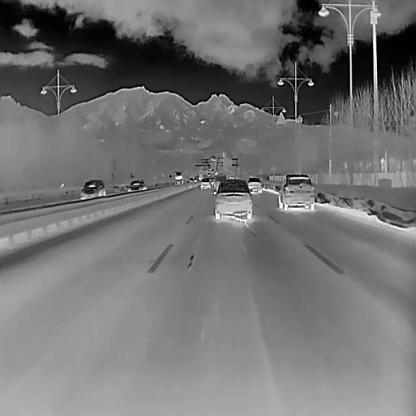car: (213, 179, 252, 219), (277, 173, 314, 210), (78, 177, 106, 198), (126, 179, 146, 191), (247, 176, 261, 193), (213, 172, 226, 188), (200, 176, 210, 188), (194, 175, 198, 183), (189, 176, 194, 182), (211, 168, 214, 172), (207, 172, 210, 174)
truck: (174, 170, 185, 185)
